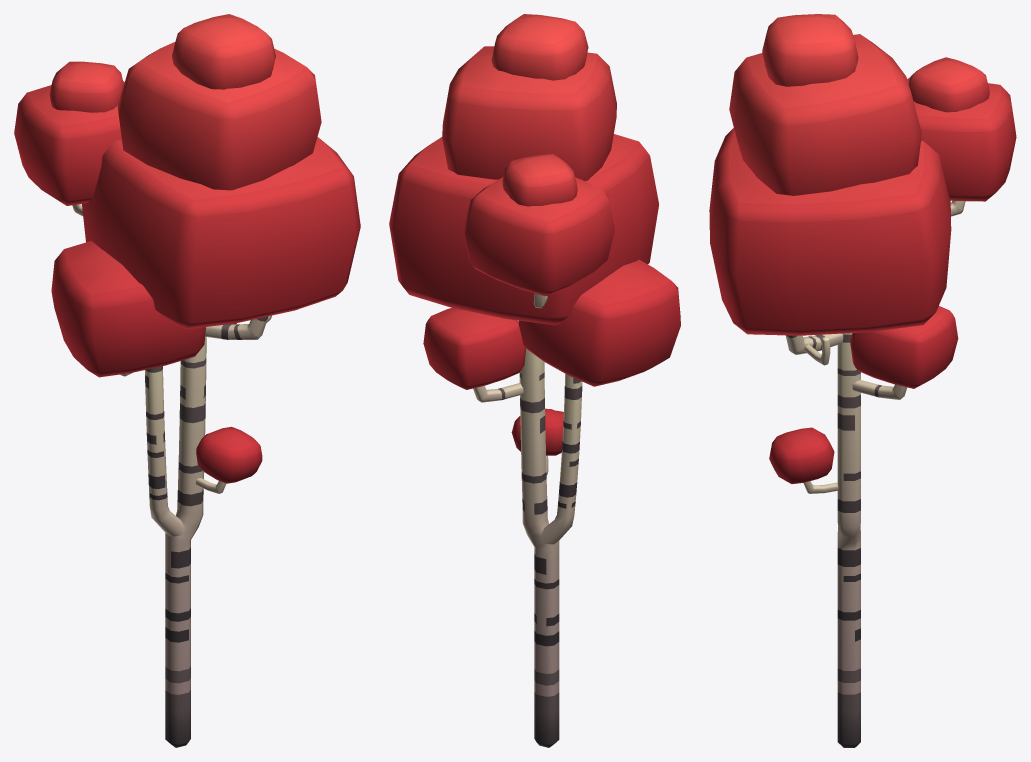
File: birch_tree_col3_01.fbx
The picture shows the model from 3 angles, left to right: view 1: azimuth 30°, elevation 25°; view 2: azimuth 150°, elevation 25°; view 3: azimuth 270°, elevation 25°; orthographic projection. The views are drawn at different scales.
Visible parts, largest first — view 1: birch_tree_SC_col3_01; view 2: birch_tree_SC_col3_01; view 3: birch_tree_SC_col3_01.
Boxes of the visible parts, <box> form: birch_tree_SC_col3_01: <box>14,14,360,747</box>; birch_tree_SC_col3_01: <box>389,14,680,747</box>; birch_tree_SC_col3_01: <box>709,14,1016,747</box>.
Size of the model in its own units: 477 by 1300 by 492.
